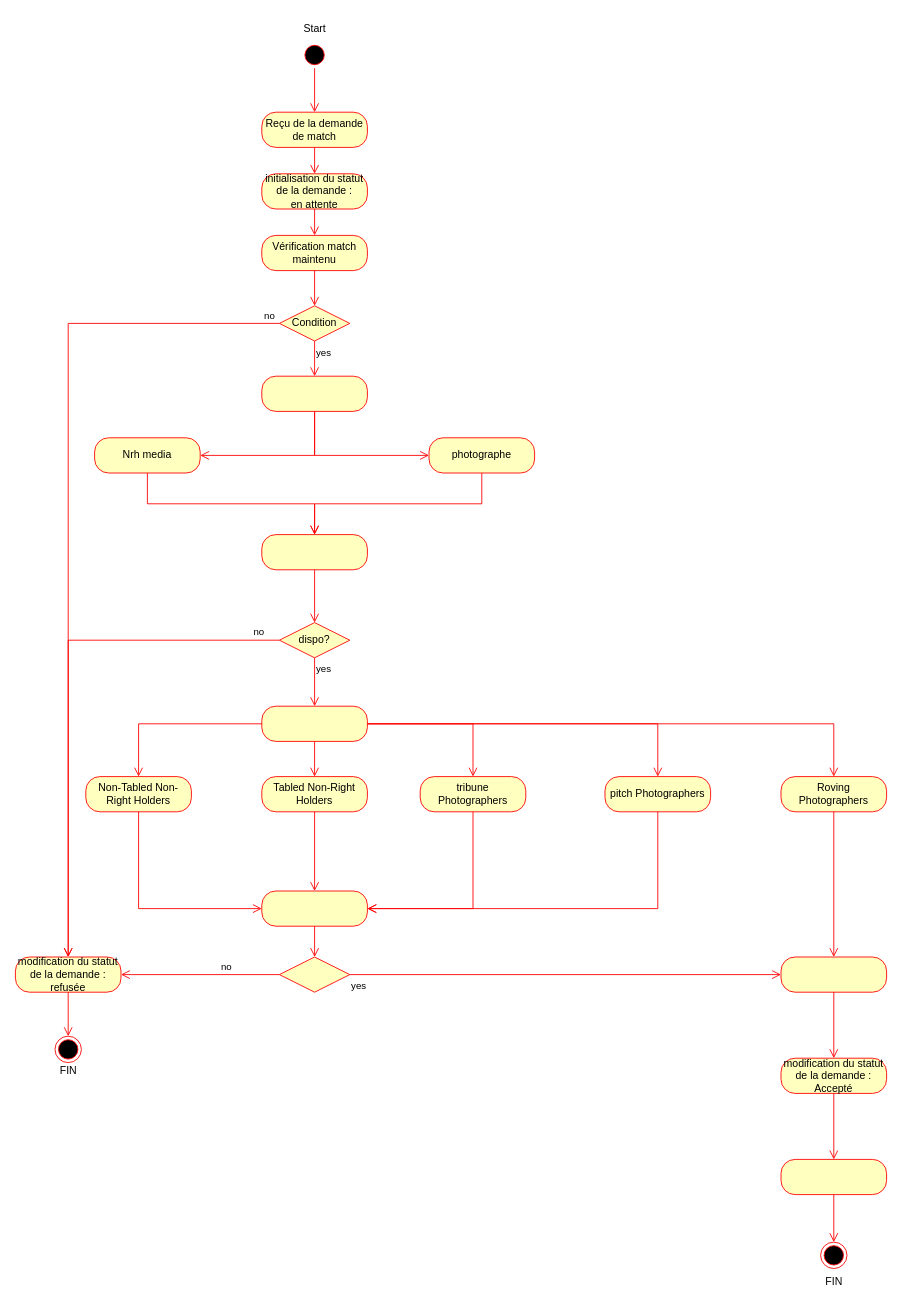
Image size: 902x1309. Some labels were removed from this diagram. The shapes that lost their labels are listed below. From the top down, each one's centre as x and y in pixels, then its label:
(314,393): analyse de la désignation du demandeur
(314,552): vérification de disponibilité d'accueil
(314,723): vérification du type de sous ensemble de siège
(314,908): check de l'outil de plan des sièges si place disponible
(314,974): place dispo?
(833,974): Attribution de la place sur l'outil de plan de siège
(833,1177): création du fichier SAD
